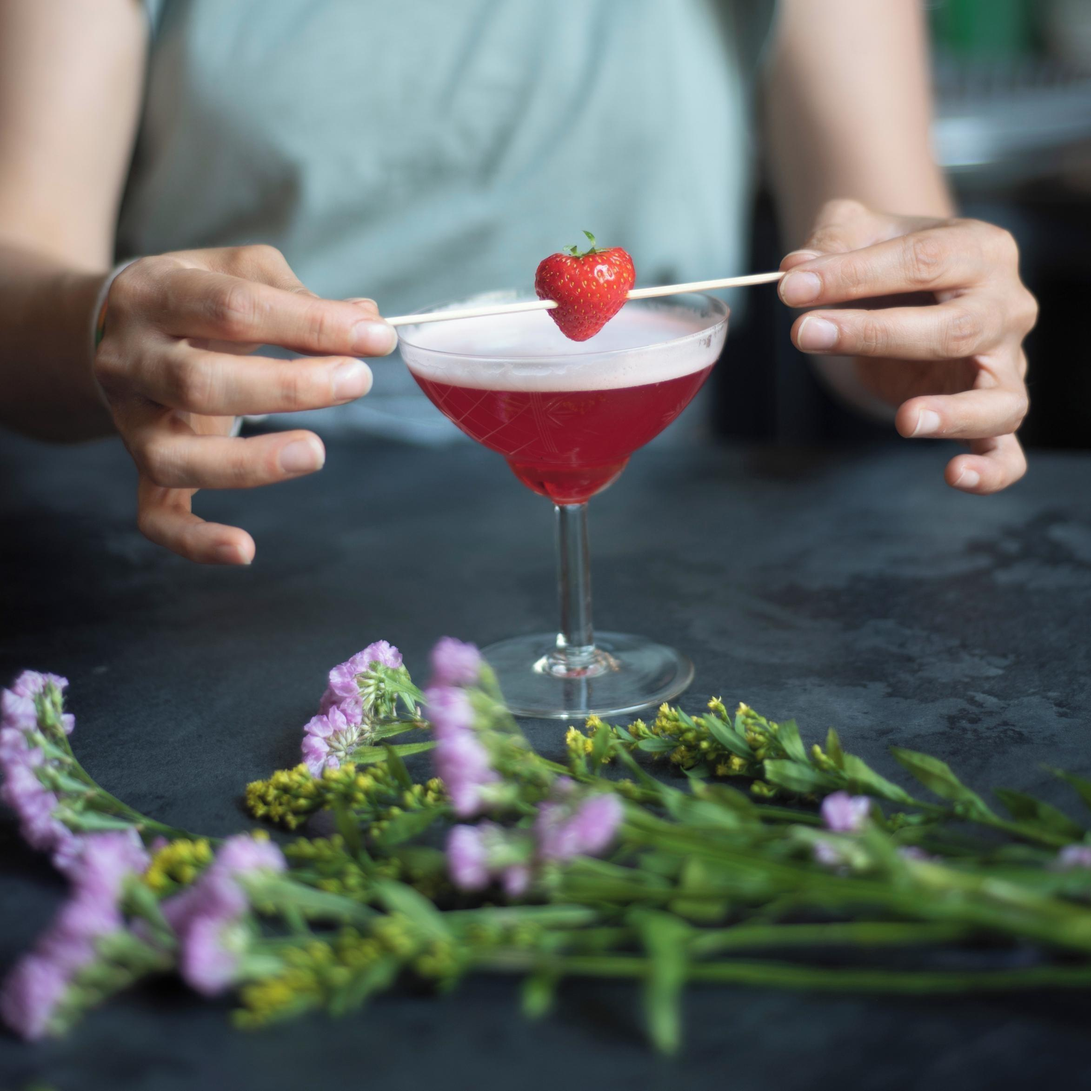glass-wine: (393, 283, 734, 725)
